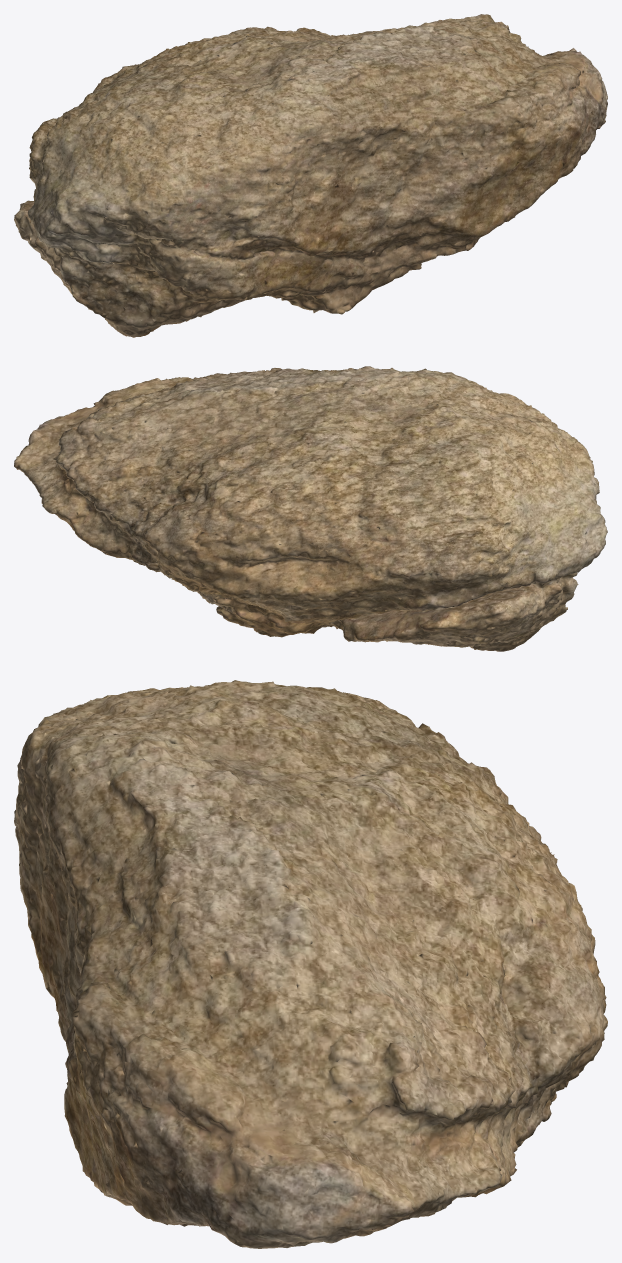
The model's file is namaqualand_boulder_05.glb.
3 renders of one model, top to bottom at view 1: azimuth 30°, elevation 25°; view 2: azimuth 150°, elevation 25°; view 3: azimuth 270°, elevation 25°, orthographic. The views are drawn at different scales.
Parts seen in each view (by area): view 1: namaqualand_boulder_05; view 2: namaqualand_boulder_05; view 3: namaqualand_boulder_05.
Boxes of the visible parts, x1=… form: namaqualand_boulder_05: x1=14, y1=14, x2=607, y2=337; namaqualand_boulder_05: x1=14, y1=366, x2=607, y2=651; namaqualand_boulder_05: x1=14, y1=680, x2=607, y2=1248.
Size of the model in its own units: 1.36 by 0.5384 by 0.7481.
Materials: 1 (1 with a texture image).
